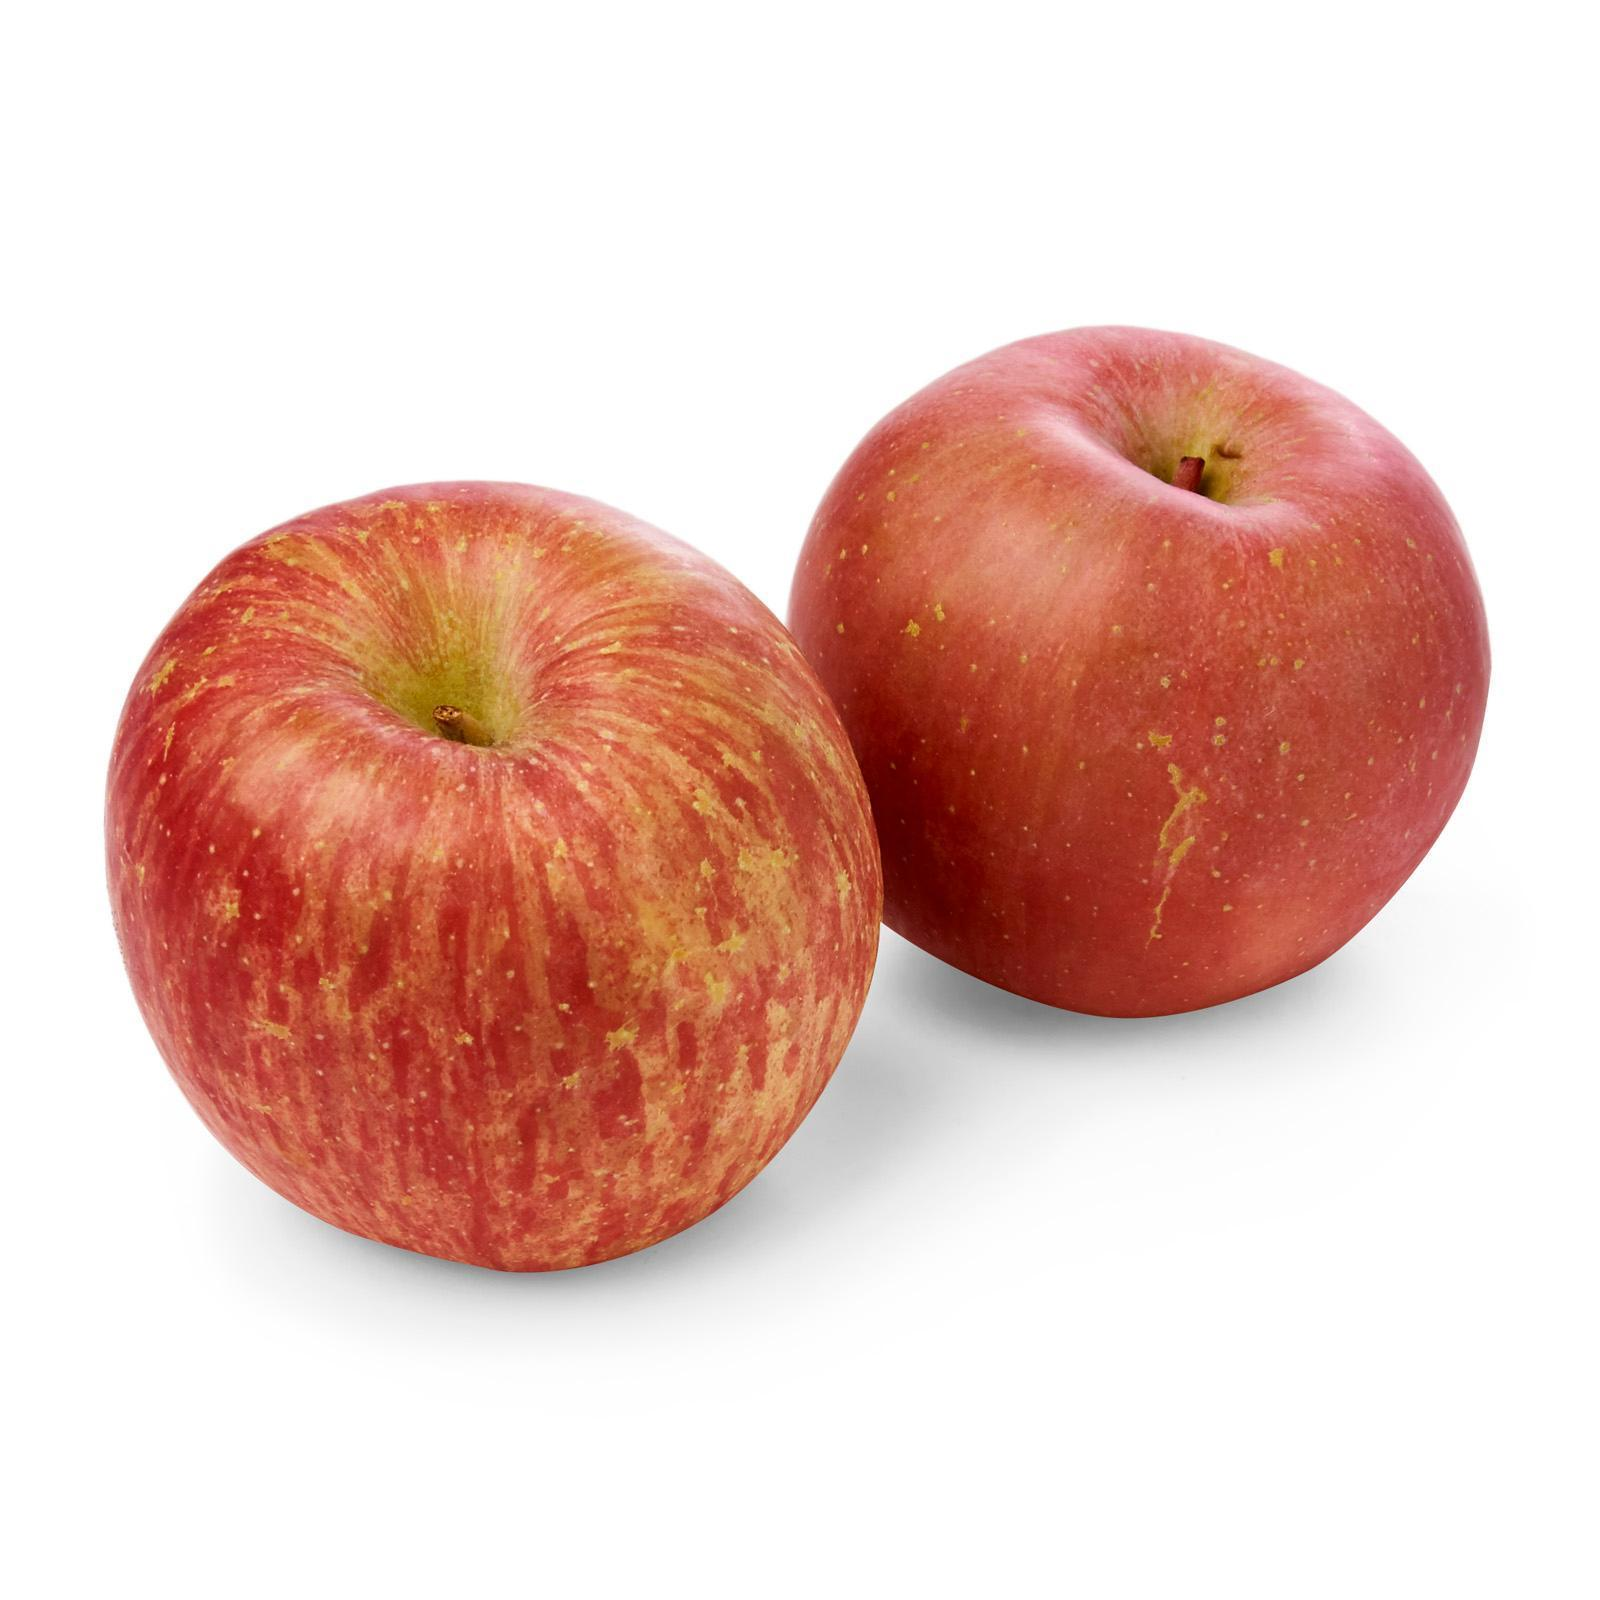apple: (100, 476, 886, 1273), (785, 322, 1495, 1023)
